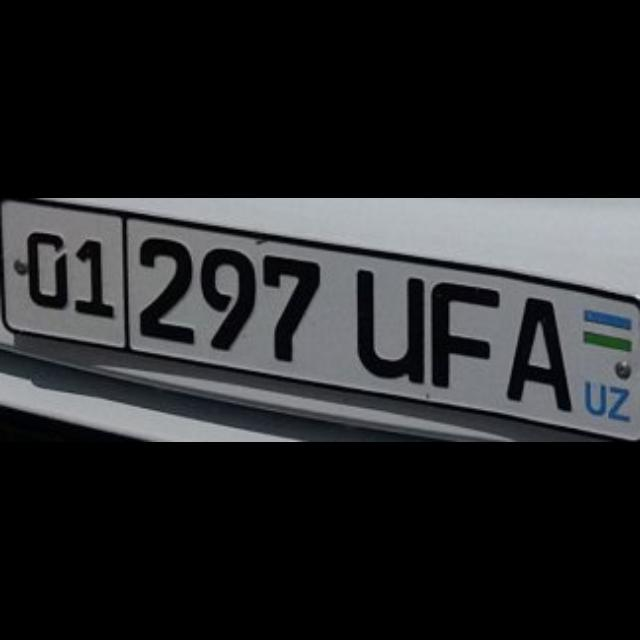0: (24, 228, 66, 308)
1: (73, 235, 113, 318)
2: (136, 234, 190, 340)
7: (258, 252, 320, 361)
9: (198, 244, 255, 350)
A: (504, 294, 570, 410)
F: (428, 278, 496, 386)
U: (353, 266, 422, 382)
